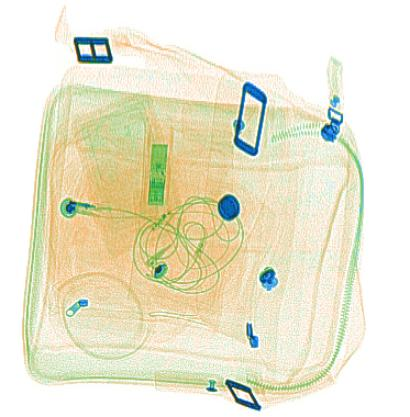USBFlashDisk: (144, 137, 168, 210)
